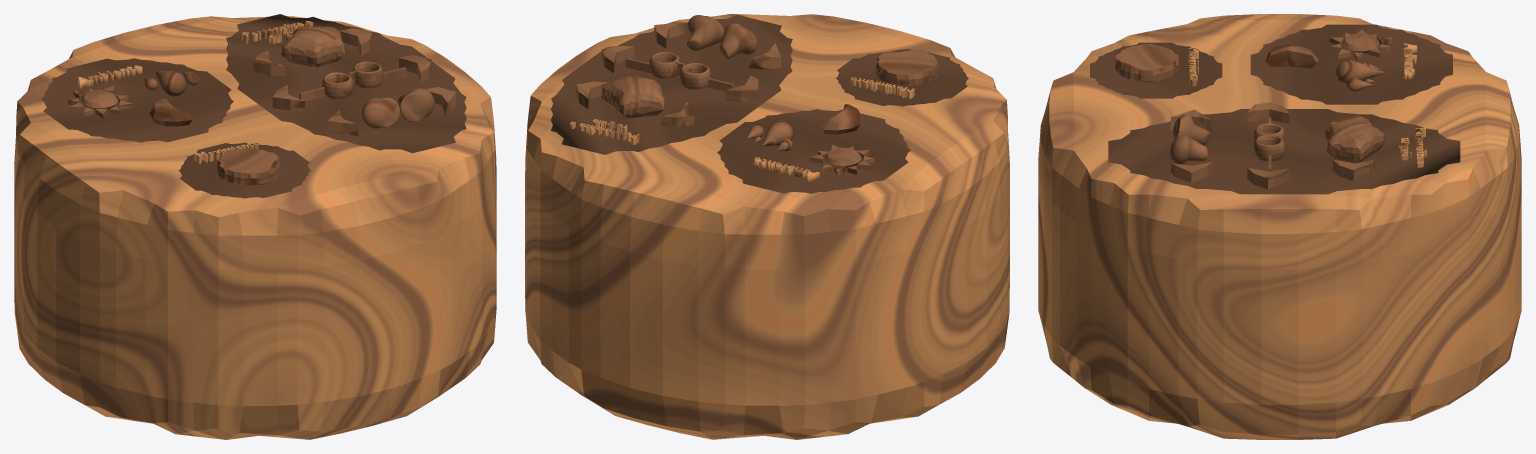
Rendered from menuTrunk.fbx.
The picture shows the model from 3 angles, left to right: view 1: azimuth 30°, elevation 25°; view 2: azimuth 150°, elevation 25°; view 3: azimuth 270°, elevation 25°; orthographic projection.
Visible parts, largest first — view 1: Circle.002, Circle.007, Circle.003, Circle.008, Circle.009, Circle.018, Circle.004, Circle.001, Circle.014, Circle.015, Circle.012, Circle.011 (+2 smaller); view 2: Circle.002, Circle.007, Circle.009, Circle.003, Circle.008, Circle.018, Circle.004, Circle.001, Circle.012, Circle.015, Circle.011, Circle.014 (+2 smaller); view 3: Circle.002, Circle.007, Circle.003, Circle.009, Circle.018, Circle.008, Circle.004, Circle.001, Circle.012, Circle.015, Circle.014, Circle.016.
Boxes of the visible parts, x1=… form: Circle.002: x1=14, y1=14, x2=496, y2=439; Circle.007: x1=281, y1=26, x2=344, y2=67; Circle.003: x1=217, y1=148, x2=280, y2=185; Circle.008: x1=299, y1=61, x2=406, y2=101; Circle.009: x1=361, y1=88, x2=434, y2=128; Circle.018: x1=68, y1=85, x2=133, y2=118; Circle.004: x1=144, y1=70, x2=199, y2=96; Circle.001: x1=149, y1=98, x2=192, y2=126; Circle.014: x1=339, y1=28, x2=372, y2=56; Circle.015: x1=399, y1=55, x2=431, y2=82; Circle.012: x1=272, y1=85, x2=304, y2=111; Circle.011: x1=253, y1=50, x2=285, y2=75; Circle.002: x1=525, y1=14, x2=1009, y2=439; Circle.007: x1=602, y1=75, x2=664, y2=118; Circle.009: x1=687, y1=15, x2=757, y2=59; Circle.003: x1=875, y1=49, x2=939, y2=86; Circle.008: x1=625, y1=52, x2=733, y2=91; Circle.018: x1=809, y1=144, x2=874, y2=175; Circle.004: x1=747, y1=120, x2=793, y2=151; Circle.001: x1=820, y1=104, x2=862, y2=134; Circle.012: x1=725, y1=75, x2=758, y2=101; Circle.015: x1=602, y1=46, x2=634, y2=72; Circle.011: x1=661, y1=102, x2=694, y2=126; Circle.014: x1=576, y1=81, x2=608, y2=108; Circle.002: x1=1038, y1=14, x2=1521, y2=439; Circle.007: x1=1325, y1=118, x2=1385, y2=162; Circle.003: x1=1115, y1=44, x2=1178, y2=82; Circle.009: x1=1170, y1=114, x2=1210, y2=164; Circle.018: x1=1329, y1=29, x2=1392, y2=61; Circle.008: x1=1254, y1=117, x2=1284, y2=171; Circle.004: x1=1336, y1=60, x2=1384, y2=91; Circle.001: x1=1265, y1=44, x2=1318, y2=68; Circle.012: x1=1247, y1=102, x2=1289, y2=123; Circle.015: x1=1247, y1=168, x2=1289, y2=189; Circle.014: x1=1332, y1=159, x2=1374, y2=181; Circle.016: x1=1170, y1=162, x2=1212, y2=182.
Bounding box in the file's own units: 652 × 410 × 652.
Materials: 3 (3 with a texture image).
